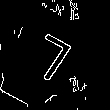L_SW: (16, 31, 74, 90)
